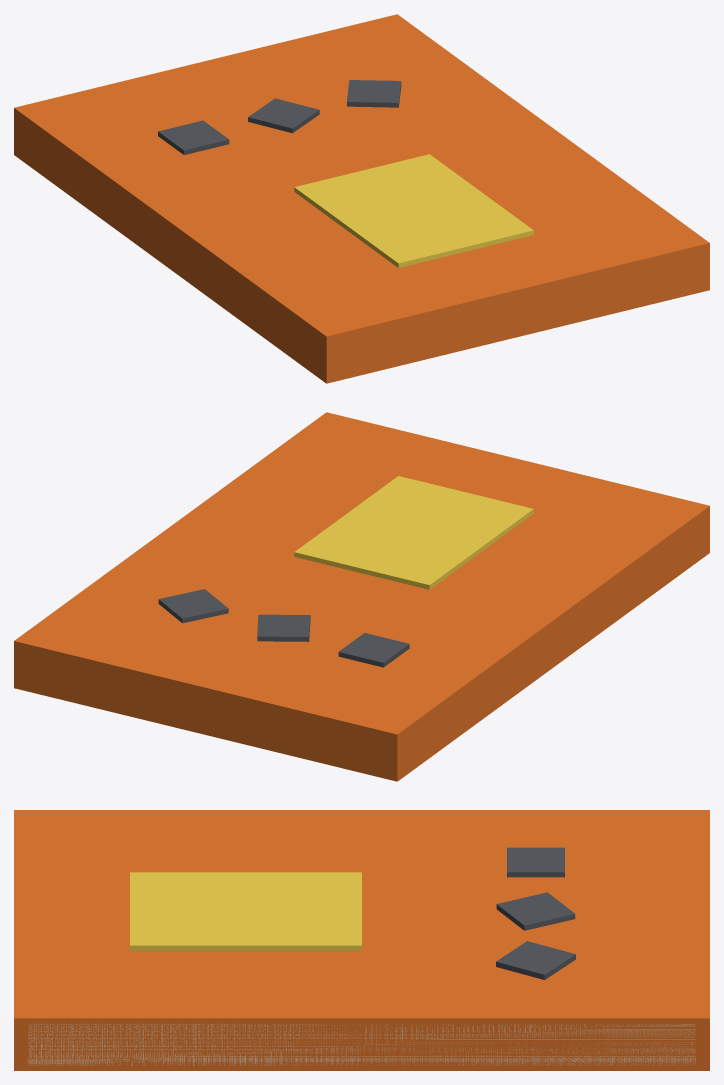
File: foreign_manual.glb
The picture shows the model from 3 angles, top to bottom: view 1: azimuth 30°, elevation 25°; view 2: azimuth 150°, elevation 25°; view 3: azimuth 270°, elevation 25°; orthographic projection. The views are drawn at different scales.
Visible parts, largest first — view 1: cover_robot_orange, robot_icon_logo_yellow, glyph_robot_grey (×3); view 2: cover_robot_orange, robot_icon_logo_yellow, glyph_robot_grey (×3); view 3: cover_robot_orange, robot_icon_logo_yellow, pages_notebook_pages, glyph_robot_grey (×3).
Boxes of the visible parts, left/top/right/bottom form: cover_robot_orange: left=14, top=14, right=709, bottom=383; robot_icon_logo_yellow: left=294, top=154, right=533, bottom=267; glyph_robot_grey (×3): left=158, top=80, right=401, bottom=154; cover_robot_orange: left=14, top=412, right=709, bottom=781; robot_icon_logo_yellow: left=294, top=476, right=533, bottom=589; glyph_robot_grey (×3): left=158, top=589, right=409, bottom=667; cover_robot_orange: left=14, top=810, right=709, bottom=1070; robot_icon_logo_yellow: left=130, top=872, right=361, bottom=950; pages_notebook_pages: left=28, top=1023, right=695, bottom=1065; glyph_robot_grey (×3): left=496, top=847, right=575, bottom=979.
Bounding box in the file's own units: 0.17 × 0.022 × 0.24.
